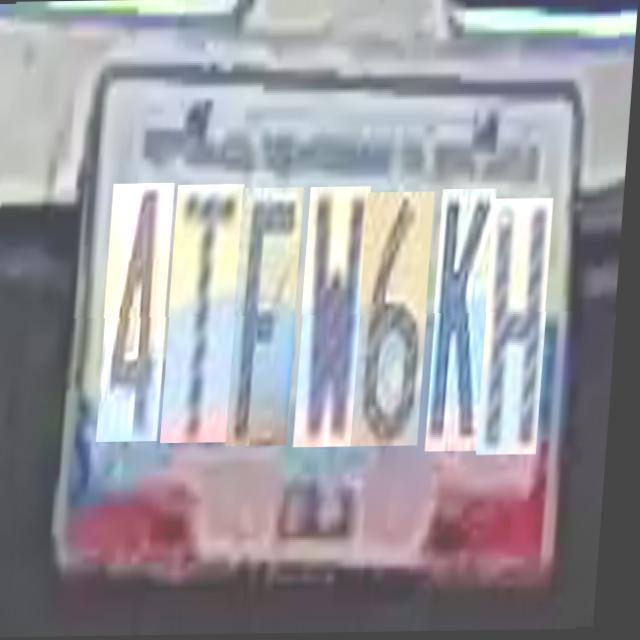4: (102, 184, 178, 442)
6: (358, 192, 438, 448)
F: (232, 188, 308, 447)
H: (483, 199, 558, 456)
K: (432, 190, 501, 453)
T: (167, 185, 249, 444)
W: (300, 188, 375, 448)
